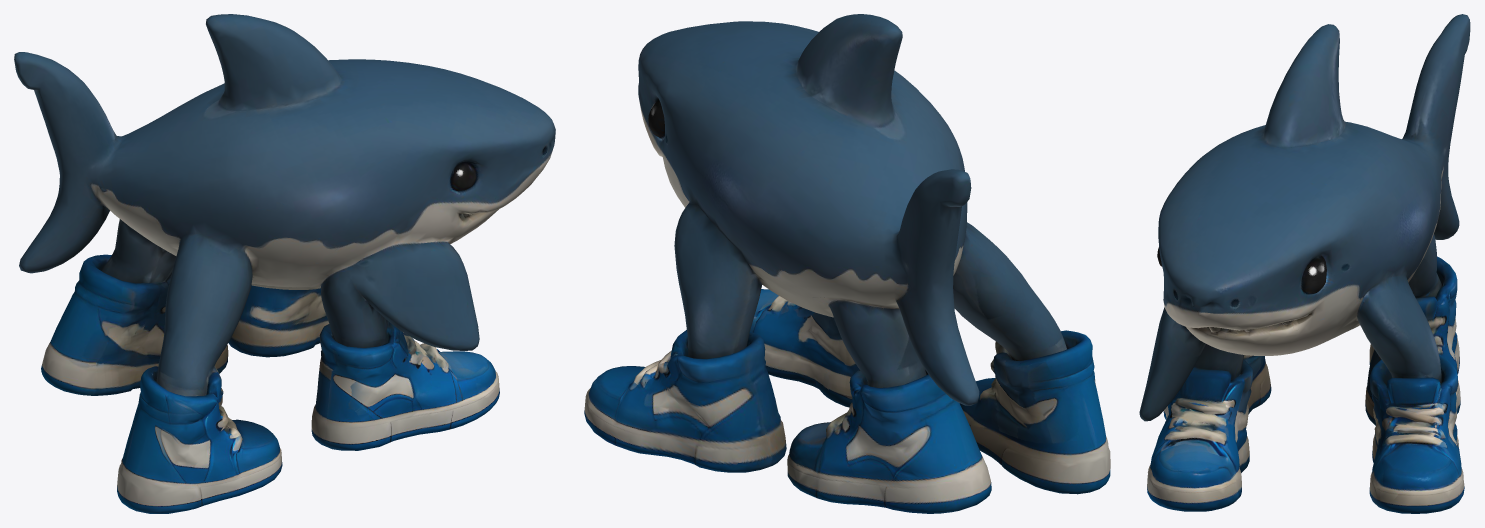
Rendered from 008-chibi-pet-tripo-v25-standard-15k.glb.
The picture shows the model from 3 angles, left to right: view 1: azimuth 30°, elevation 25°; view 2: azimuth 150°, elevation 25°; view 3: azimuth 270°, elevation 25°; orthographic projection. The views are drawn at different scales.
Visible parts, largest first — view 1: tripo_node_42f04d5f-4f7d-4664-8e58-e32364c09f27; view 2: tripo_node_42f04d5f-4f7d-4664-8e58-e32364c09f27; view 3: tripo_node_42f04d5f-4f7d-4664-8e58-e32364c09f27.
Boxes of the visible parts, box(x1,y1,x2,y2) form: tripo_node_42f04d5f-4f7d-4664-8e58-e32364c09f27: box(14, 14, 555, 513); tripo_node_42f04d5f-4f7d-4664-8e58-e32364c09f27: box(584, 14, 1110, 513); tripo_node_42f04d5f-4f7d-4664-8e58-e32364c09f27: box(1139, 14, 1470, 513).
Size of the model in its own units: 1 by 0.9582 by 0.6711.
Materials: 1 (1 with a texture image).
